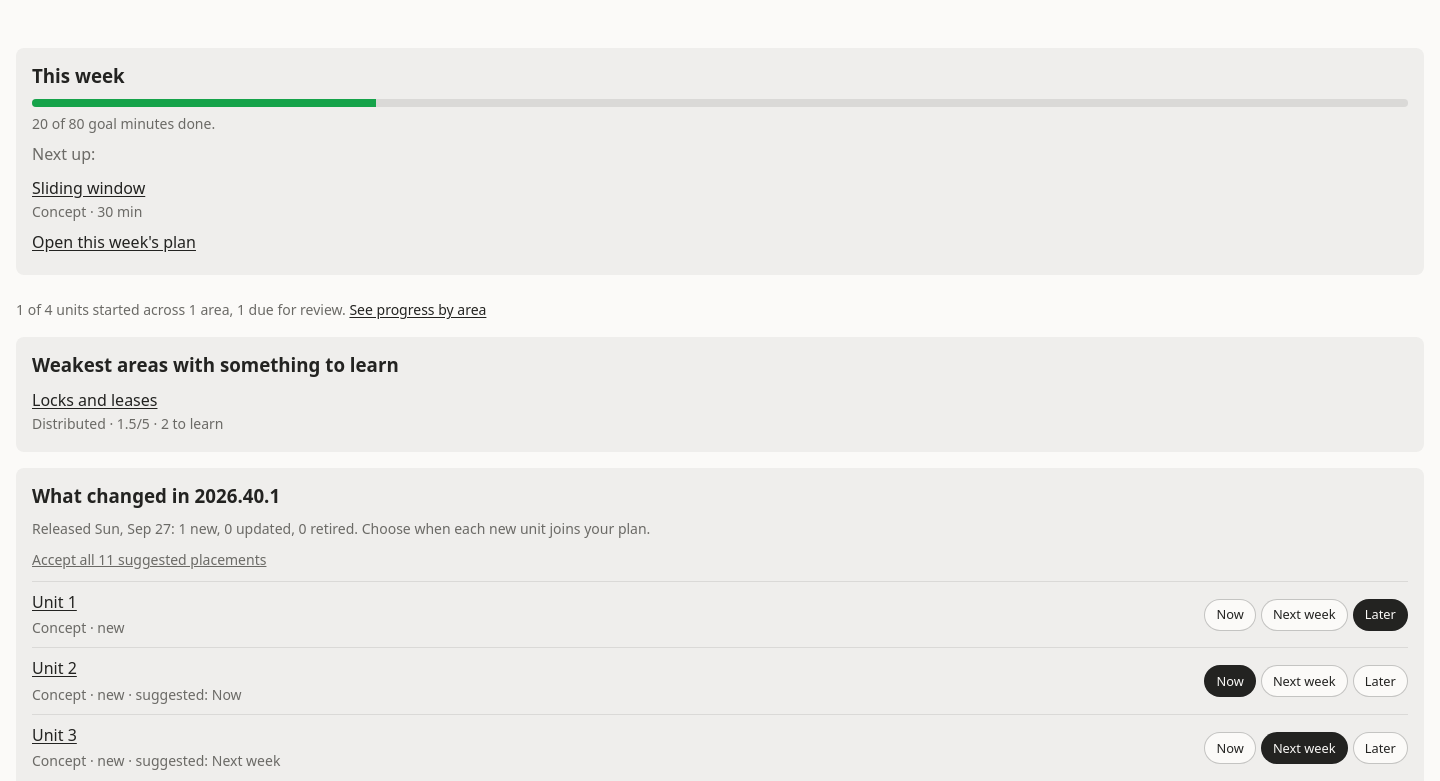
accepts every suggested placement in one request, including rows not shown yet
Click the button "Accept all 11 suggested placements". click: [149, 560]
box: [32,549,266,572]
(page scrolled)
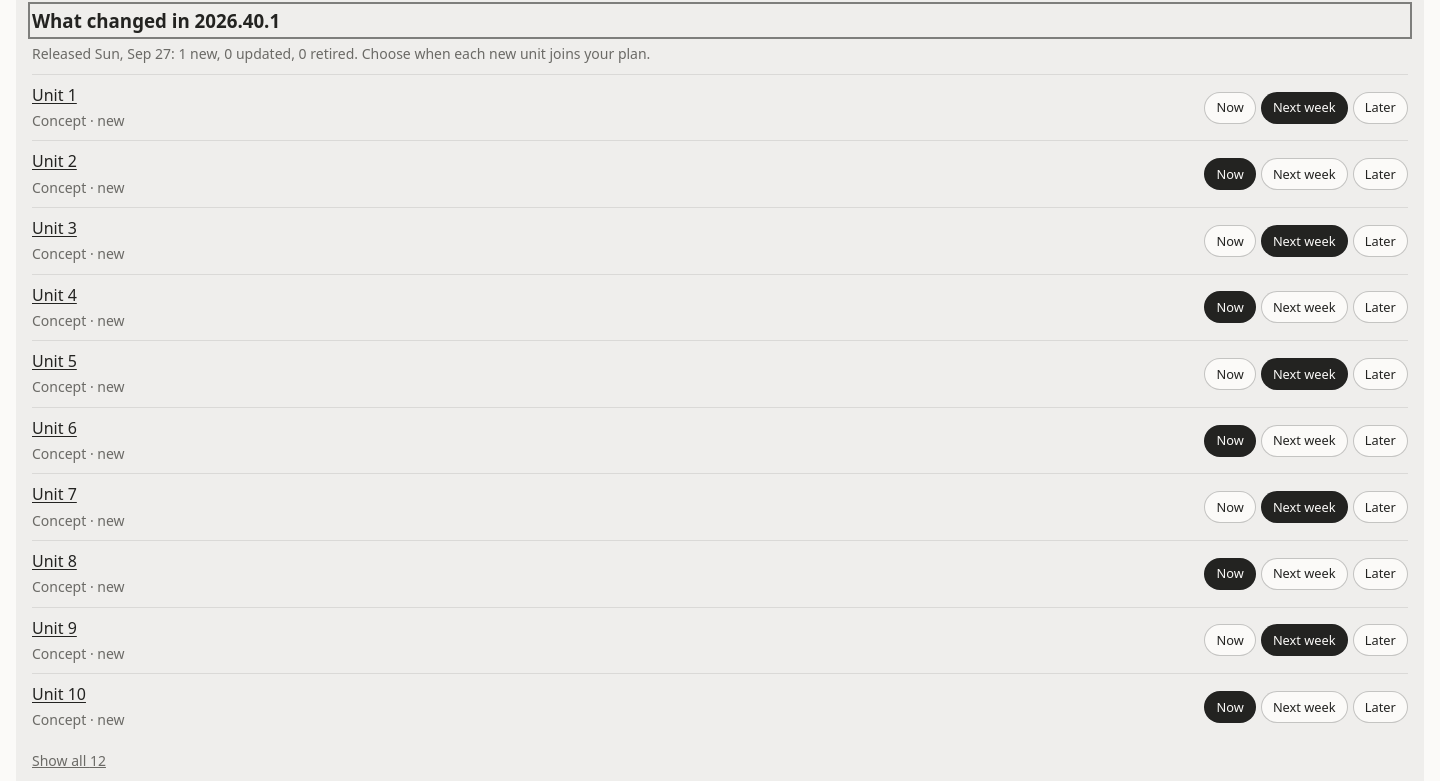
Check: the button "Accept" is gone
